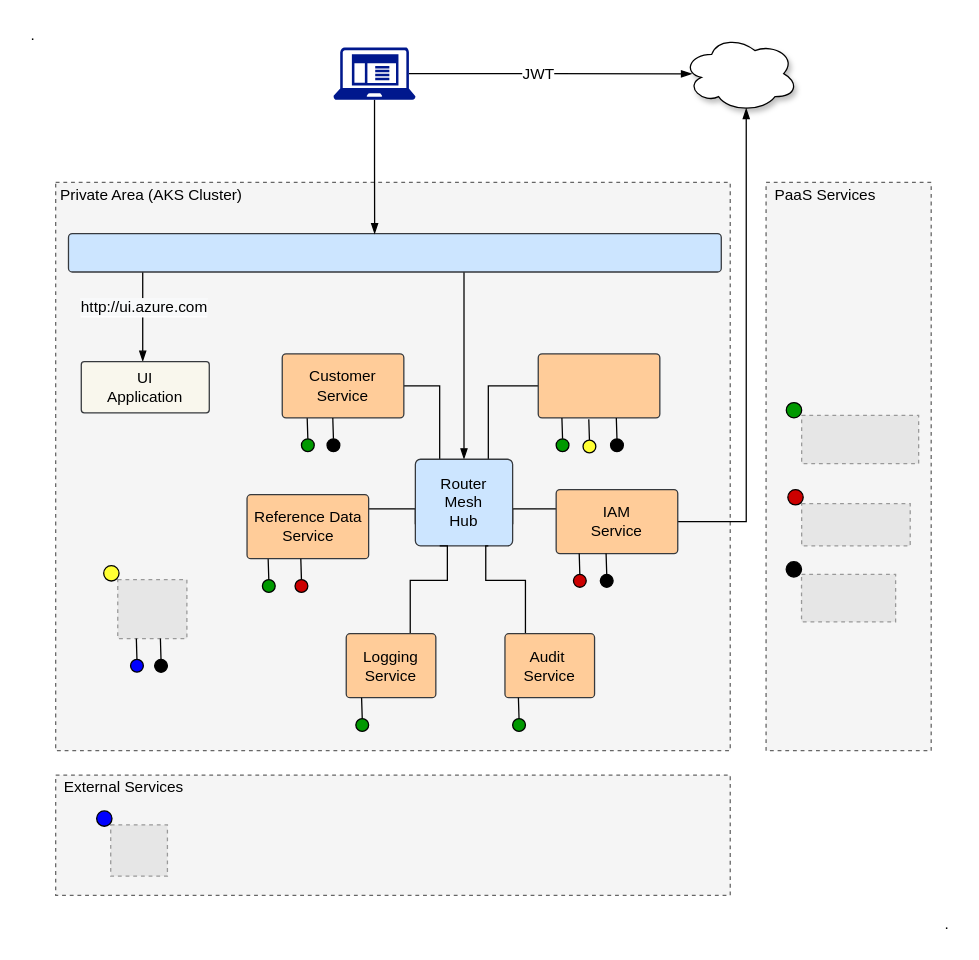
Some shapes in this 979 by 960 pixel diagram are drawn without their labels. Grey dashed boxes stand in for pictures. Here are the shapes that lost their labels. From the top down, the centre of each, then its label:
the point at 741,75: OKTA
the point at 394,252: API GATEWAY (Ingress)
the point at 598,385: Payment Service
